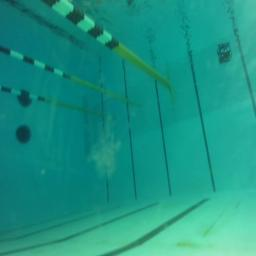front: (218, 52, 234, 64)
